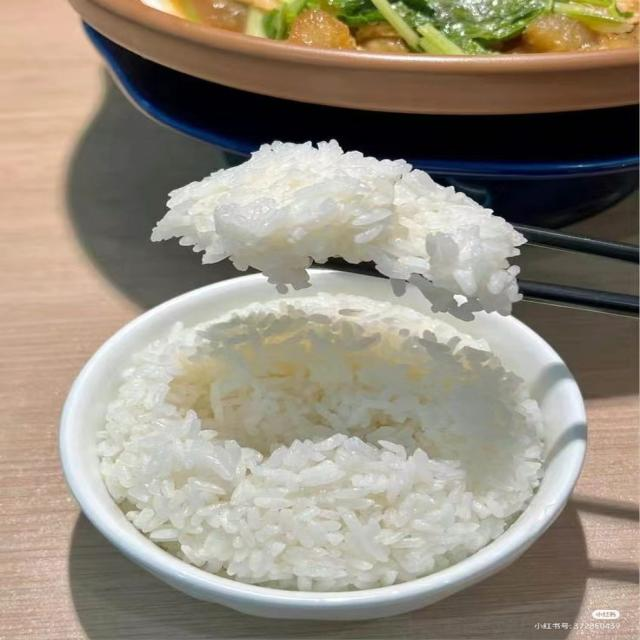rice: (99, 295, 541, 591), (152, 141, 524, 319)
